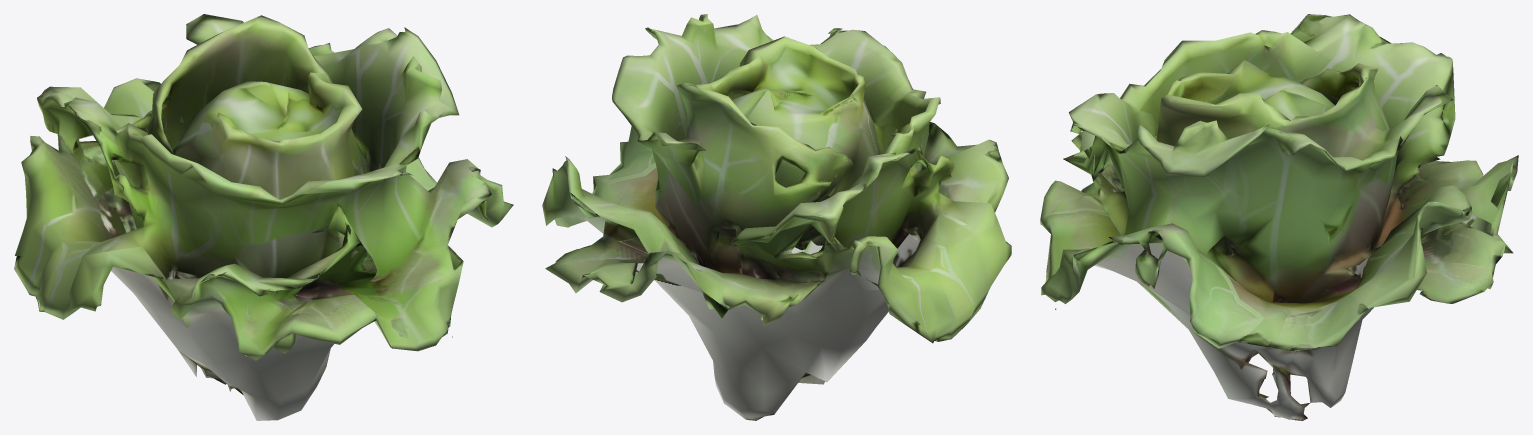
File: lettuce_l.glb
3 views of the same model, side by side, from view 1: azimuth 30°, elevation 25°; view 2: azimuth 150°, elevation 25°; view 3: azimuth 270°, elevation 25° (orthographic). The views are drawn at different scales.
Size of the model in its own units: 1.99 by 1.6 by 2.
Materials: 1 (1 with a texture image).
